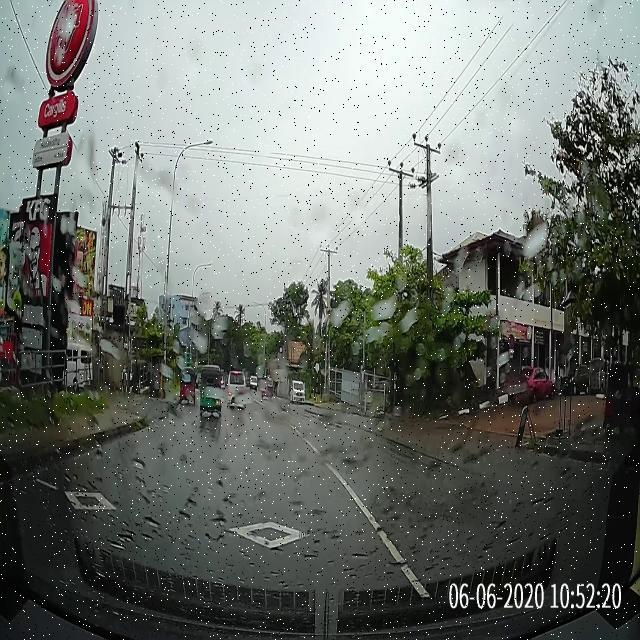diamond: (143, 515, 402, 555)
